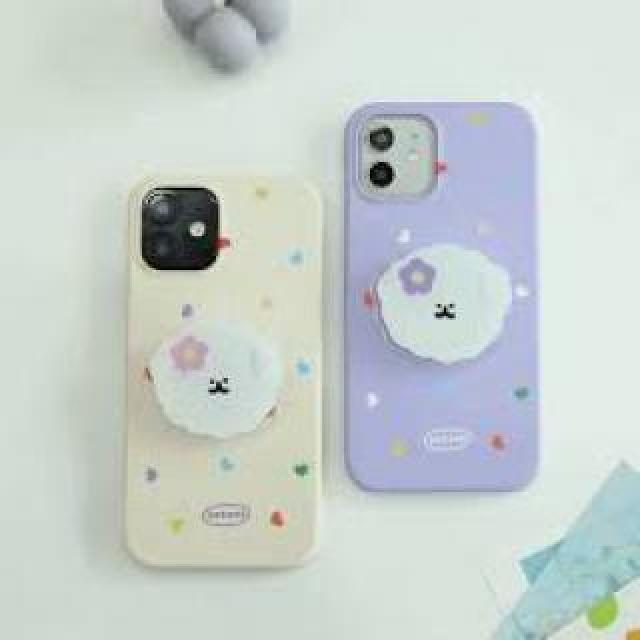smart phone: (102, 155, 340, 570), (317, 73, 568, 450)
